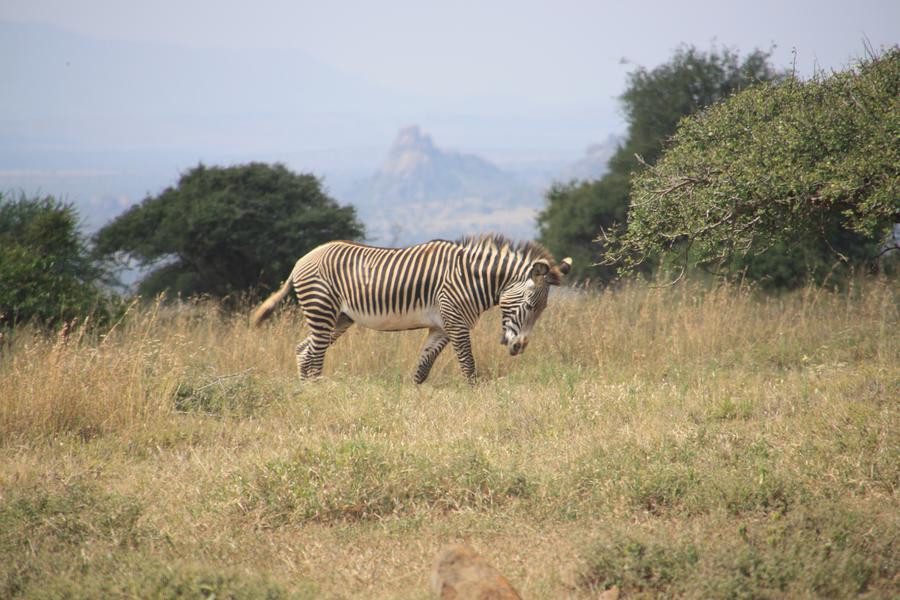zebra_grevys: (291, 229, 476, 328)
